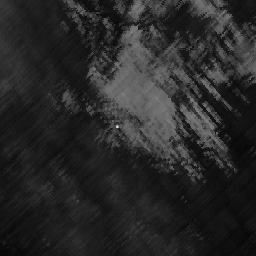Target: (114, 123, 121, 129)
